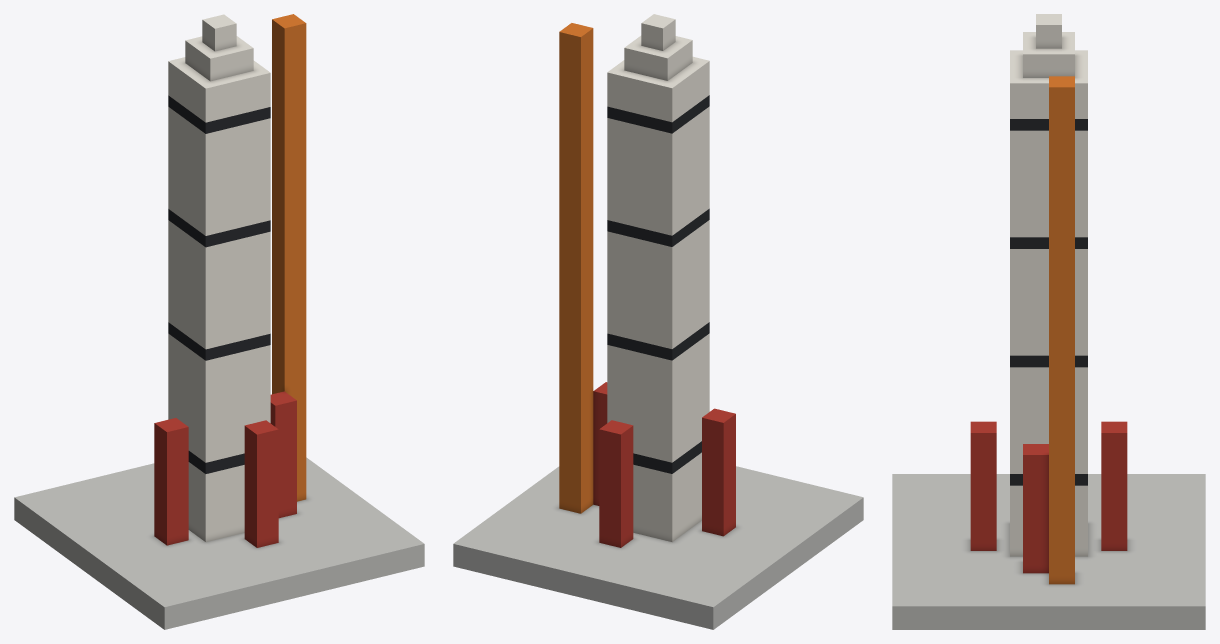
The model's file is w_rocket.glb.
3 views of the same model, side by side, from view 1: azimuth 30°, elevation 25°; view 2: azimuth 150°, elevation 25°; view 3: azimuth 270°, elevation 25° (orthographic). The views are drawn at different scales.
Parts seen in each view (by area): view 1: w_rocket_body; view 2: w_rocket_body; view 3: w_rocket_body.
Part boxes in pixels (x1=…): w_rocket_body: x1=14, y1=14, x2=424, y2=629; w_rocket_body: x1=453, y1=14, x2=863, y2=629; w_rocket_body: x1=892, y1=14, x2=1205, y2=629.
Size of the model in its own units: 1.5 by 2.88 by 1.5.
Materials: 1 (1 with a texture image).
